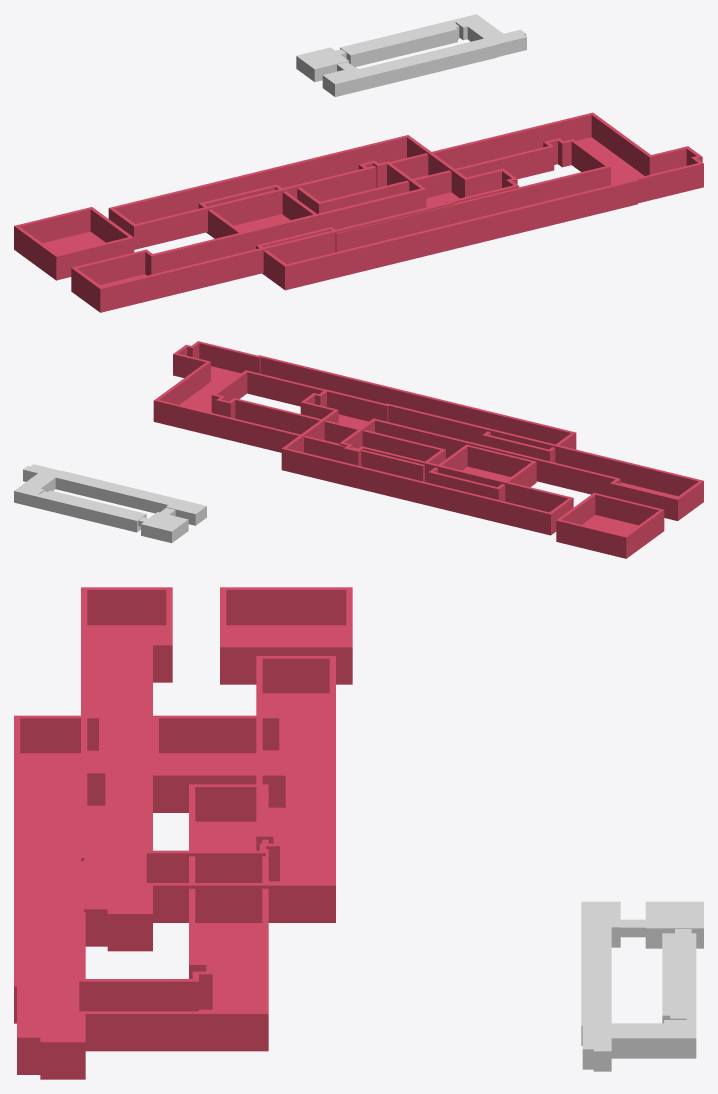
Rendered from qqqwe.glb.
3 views of the same model, one above another, from view 1: azimuth 30°, elevation 25°; view 2: azimuth 150°, elevation 25°; view 3: azimuth 270°, elevation 25° (orthographic). The views are drawn at different scales.
Parts seen in each view (by area): view 1: F1, F2, Cube; view 2: F1, F2, Cube; view 3: F1, F2, Cube.
Boxes of the visible parts, left/top/right/bottom form: F1: left=14, top=135, right=519, bottom=312; F2: left=198, top=112, right=703, bottom=290; Cube: left=296, top=14, right=526, bottom=96; F1: left=281, top=389, right=703, bottom=558; F2: left=153, top=341, right=576, bottom=501; Cube: left=14, top=464, right=206, bottom=543; F1: left=81, top=587, right=352, bottom=951; F2: left=14, top=715, right=285, bottom=1079; Cube: left=581, top=901, right=703, bottom=1071.
Bounding box in the file's own units: 14.33 × 0.5938 × 9.24.
